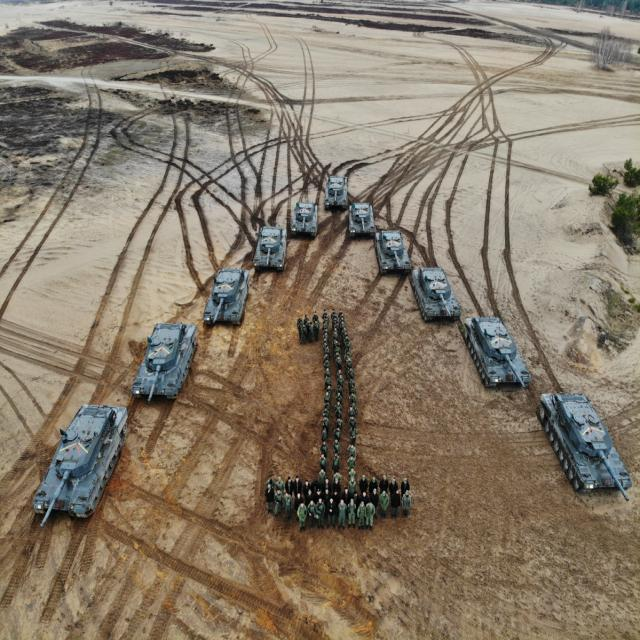tank: (33, 405, 128, 519), (538, 393, 632, 496), (457, 316, 533, 389), (130, 322, 199, 402), (410, 267, 462, 322), (203, 268, 251, 326), (374, 229, 413, 274), (254, 225, 287, 272), (290, 200, 319, 238), (348, 202, 376, 238), (324, 176, 350, 210)
